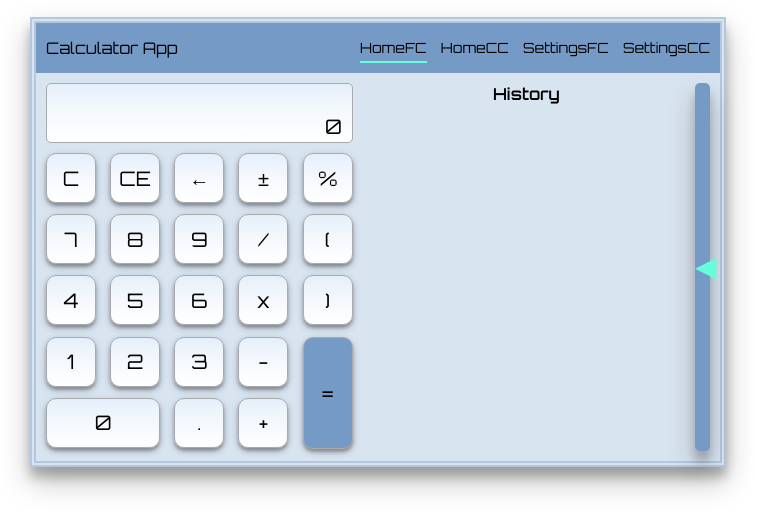
basic arithmetic operation › check the subtraction function
Click the button "9": [199, 239] box 174,214 -> 224,264
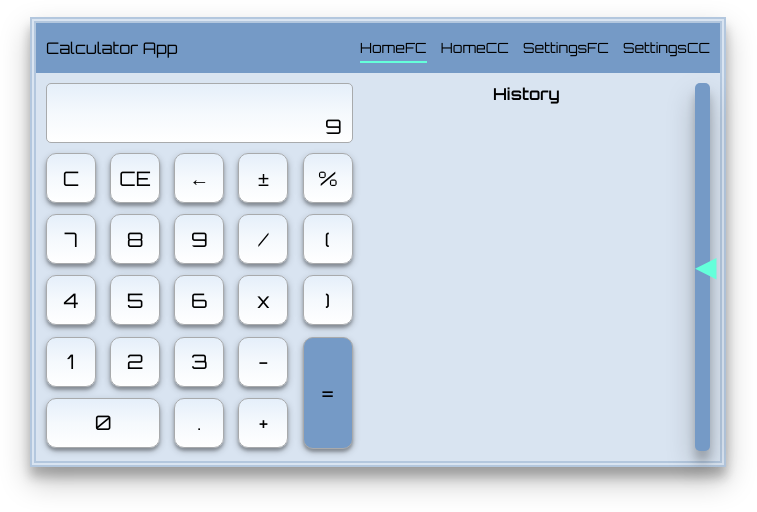
Click the button "-": [264, 362] box 239,337 -> 289,387
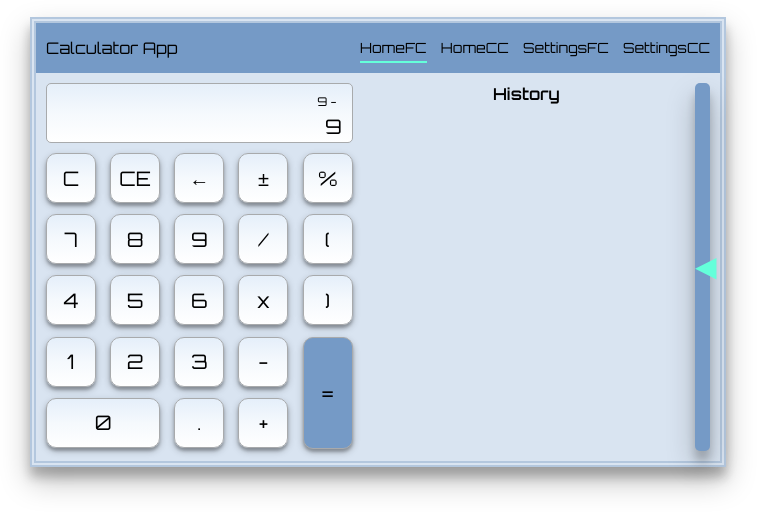
Click the button "4": [71, 300] box 46,275 -> 96,325
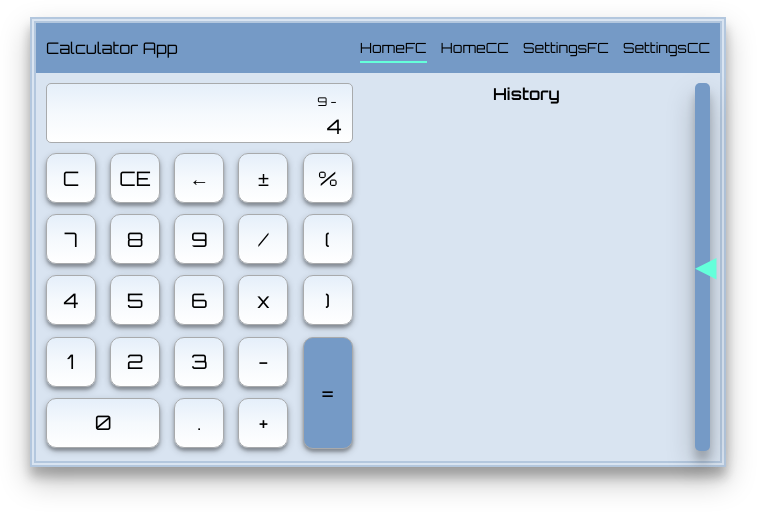
Click the button "=": [328, 394] box 303,337 -> 353,450
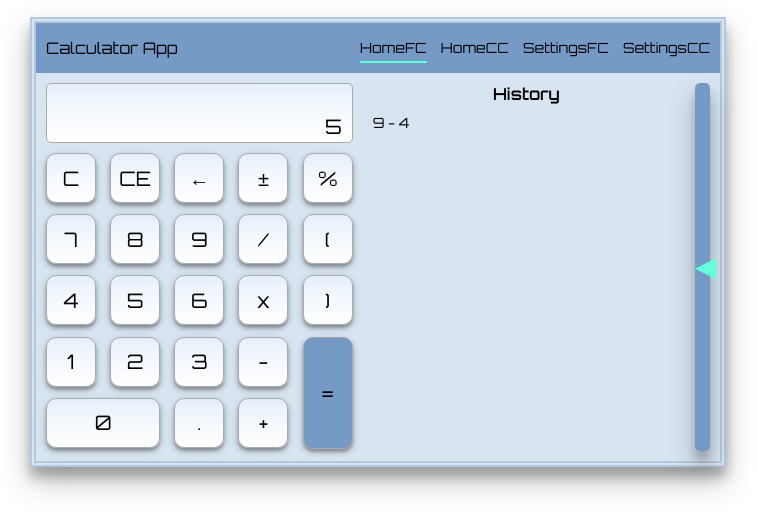
Expected: the field holds "5", 64,114 -> 342,139
